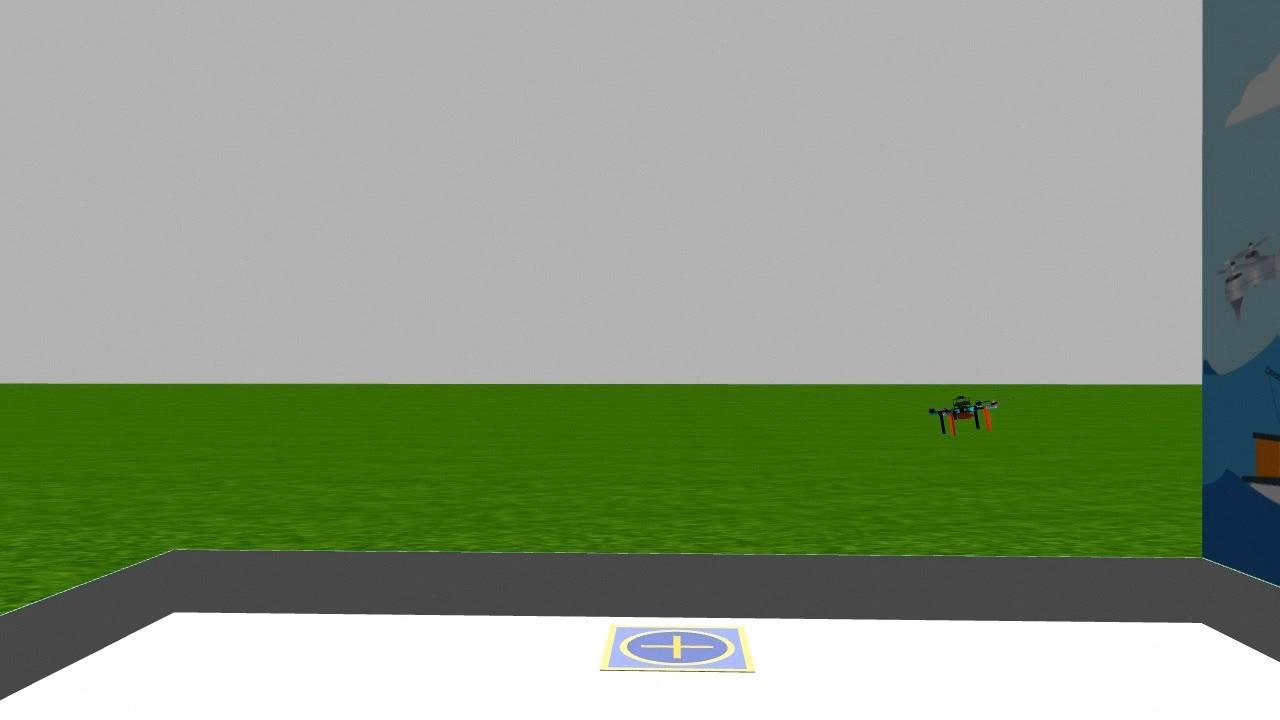UAV: (921, 390, 1011, 450)
